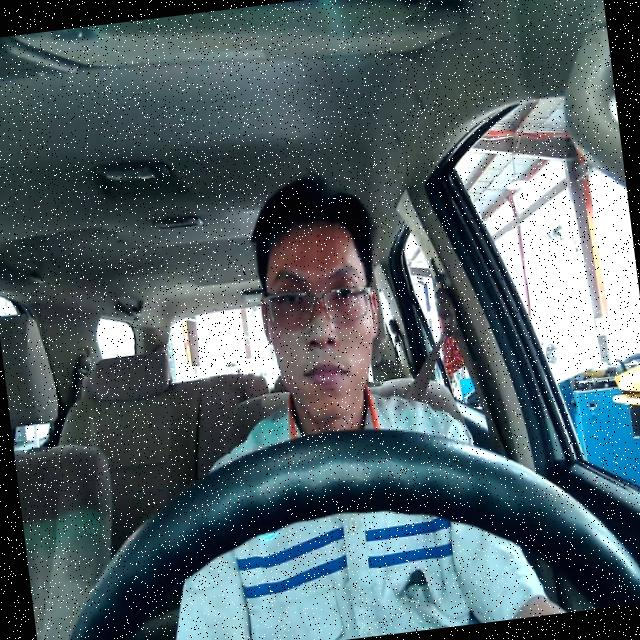focused: (249, 214, 390, 427)
